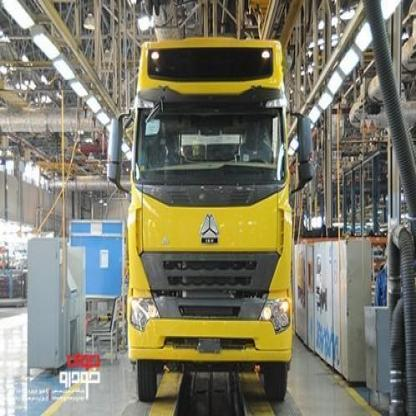Truck: (114, 23, 308, 416)
